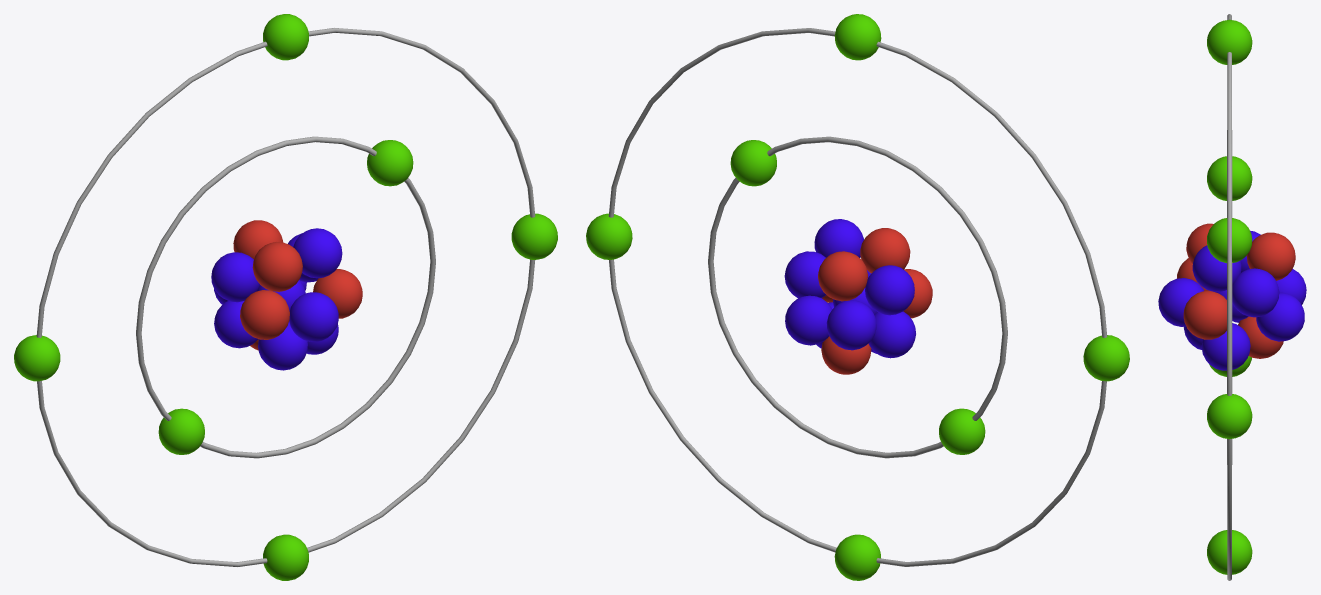
The model's file is nielsbohr.glb.
The picture shows the model from 3 angles, left to right: view 1: azimuth 30°, elevation 25°; view 2: azimuth 150°, elevation 25°; view 3: azimuth 270°, elevation 25°; orthographic projection. The views are drawn at different scales.
Visible parts, largest first — view 1: Atom Rutherford.024; view 2: Atom Rutherford.024; view 3: Atom Rutherford.024.
Part boxes in pixels (x1,y1,x2,y2): Atom Rutherford.024: (14,14,557,580); Atom Rutherford.024: (586,14,1129,580); Atom Rutherford.024: (1158,14,1306,580).
Bounding box in the file's own units: 2.16 × 2.16 × 0.5269.
